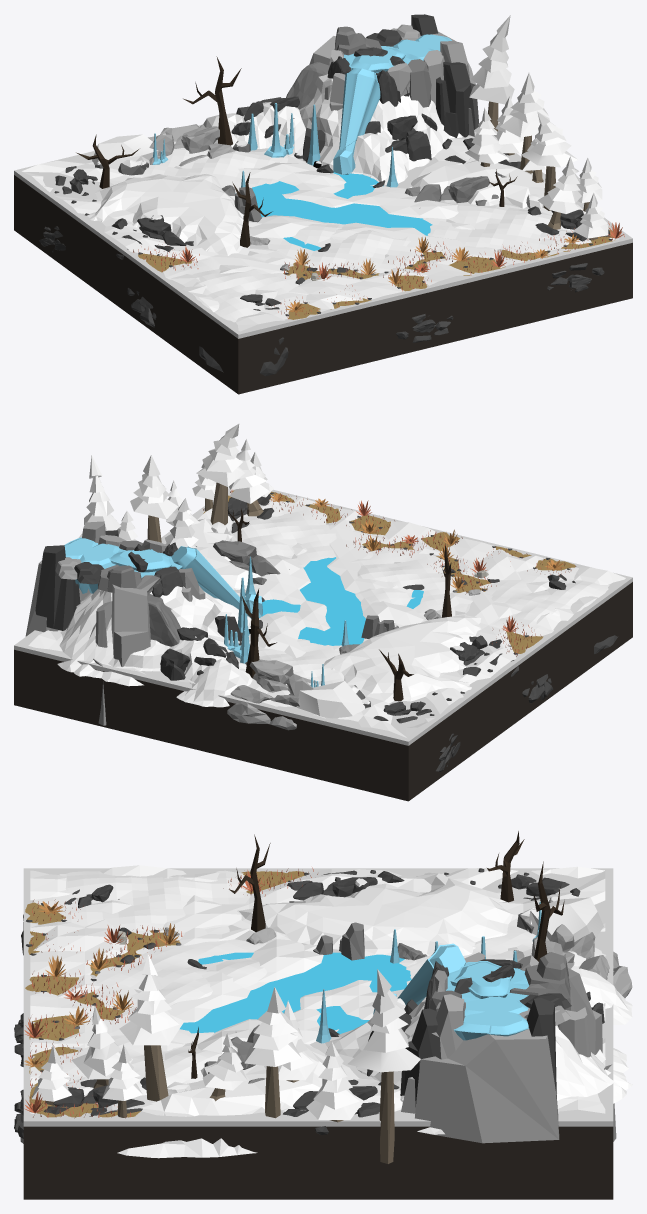
Rendered from Tundra.fbx.
3 renders of one model, top to bottom at view 1: azimuth 30°, elevation 25°; view 2: azimuth 150°, elevation 25°; view 3: azimuth 270°, elevation 25°, orthographic. The views are drawn at different scales.
Visible parts, largest first — view 1: Cube, Terrain_Plane_Rock_Uneven_01, Terrain_Mountain_Snow_01, Cube (1), Terrain_Rock_Mound_01, Terrain_Plane_Rock_Uneven_02, Terrain_Plane_Rock_Uneven_02 (1), LowPolyWaterv2, Terrain_Plane_Rock_Uneven_02 (3), Terrain_Rock_Mound_01 (1), Terrain_Plane_Rock_Uneven_02 (2), Rock_Large_Ice_Iceberg_01 (+33 smaller); view 2: Cube, Terrain_Plane_Rock_Uneven_01, Terrain_Mountain_Snow_01, Terrain_Rock_Mound_01, Cube (1), Terrain_Plane_Rock_Uneven_02, Terrain_Plane_Rock_Uneven_02 (3), LowPolyWaterv2, Terrain_Plane_Rock_Uneven_02 (1), Rock_Large_17 (4), Rock_Chunks_Large_01, Rock_Large_17 (6) (+24 smaller); view 3: Cube, Terrain_Plane_Rock_Uneven_01, Rock_Large_17 (7), Cube (1), Terrain_Rock_Mound_01, Terrain_Plane_Rock_Uneven_02 (3), LowPolyWaterv2, Terrain_Plane_Rock_Uneven_02, Terrain_Mountain_Snow_01, Terrain_Rock_Mound_01 (1), Vegetation_Tree_Alpine_Snow_06 (1), Vegetation_Tree_Alpine_Snow_06 (+35 smaller).
Boxes of the visible parts, x1,y1,x2,y2 form: Cube: [14, 175, 632, 394]; Terrain_Plane_Rock_Uneven_01: [21, 137, 618, 331]; Terrain_Mountain_Snow_01: [200, 74, 463, 185]; Cube (1): [14, 124, 632, 338]; Terrain_Rock_Mound_01: [87, 174, 249, 255]; Terrain_Plane_Rock_Uneven_02: [251, 222, 424, 274]; Terrain_Plane_Rock_Uneven_02 (1): [423, 200, 573, 253]; LowPolyWaterv2: [235, 172, 432, 250]; Terrain_Plane_Rock_Uneven_02 (3): [164, 255, 307, 322]; Terrain_Rock_Mound_01 (1): [411, 158, 545, 208]; Terrain_Plane_Rock_Uneven_02 (2): [142, 141, 288, 188]; Rock_Large_Ice_Iceberg_01: [339, 68, 380, 174]; Cube: [14, 582, 632, 801]; Terrain_Plane_Rock_Uneven_01: [28, 495, 625, 737]; Terrain_Mountain_Snow_01: [57, 586, 252, 707]; Terrain_Rock_Mound_01: [323, 615, 480, 701]; Cube (1): [14, 488, 632, 745]; Terrain_Plane_Rock_Uneven_02: [349, 547, 472, 616]; Terrain_Plane_Rock_Uneven_02 (3): [465, 567, 609, 636]; LowPolyWaterv2: [259, 557, 423, 646]; Terrain_Plane_Rock_Uneven_02 (1): [230, 501, 336, 567]; Rock_Large_17 (4): [93, 584, 150, 725]; Rock_Chunks_Large_01: [227, 659, 316, 730]; Rock_Large_17 (6): [35, 545, 80, 630]; Cube: [23, 1126, 613, 1199]; Terrain_Plane_Rock_Uneven_01: [30, 865, 605, 1113]; Rock_Large_17 (7): [401, 1027, 559, 1143]; Cube (1): [23, 868, 613, 1126]; Terrain_Rock_Mound_01: [237, 872, 513, 955]; Terrain_Plane_Rock_Uneven_02 (3): [34, 870, 250, 935]; LowPolyWaterv2: [180, 952, 411, 1033]; Terrain_Plane_Rock_Uneven_02: [93, 926, 268, 1011]; Terrain_Mountain_Snow_01: [324, 968, 632, 1134]; Terrain_Rock_Mound_01 (1): [117, 1044, 326, 1158]; Vegetation_Tree_Alpine_Snow_06 (1): [347, 969, 420, 1163]; Vegetation_Tree_Alpine_Snow_06: [119, 953, 184, 1101].
Size of the model in its own units: 11.25 by 4.67 by 10.98.
